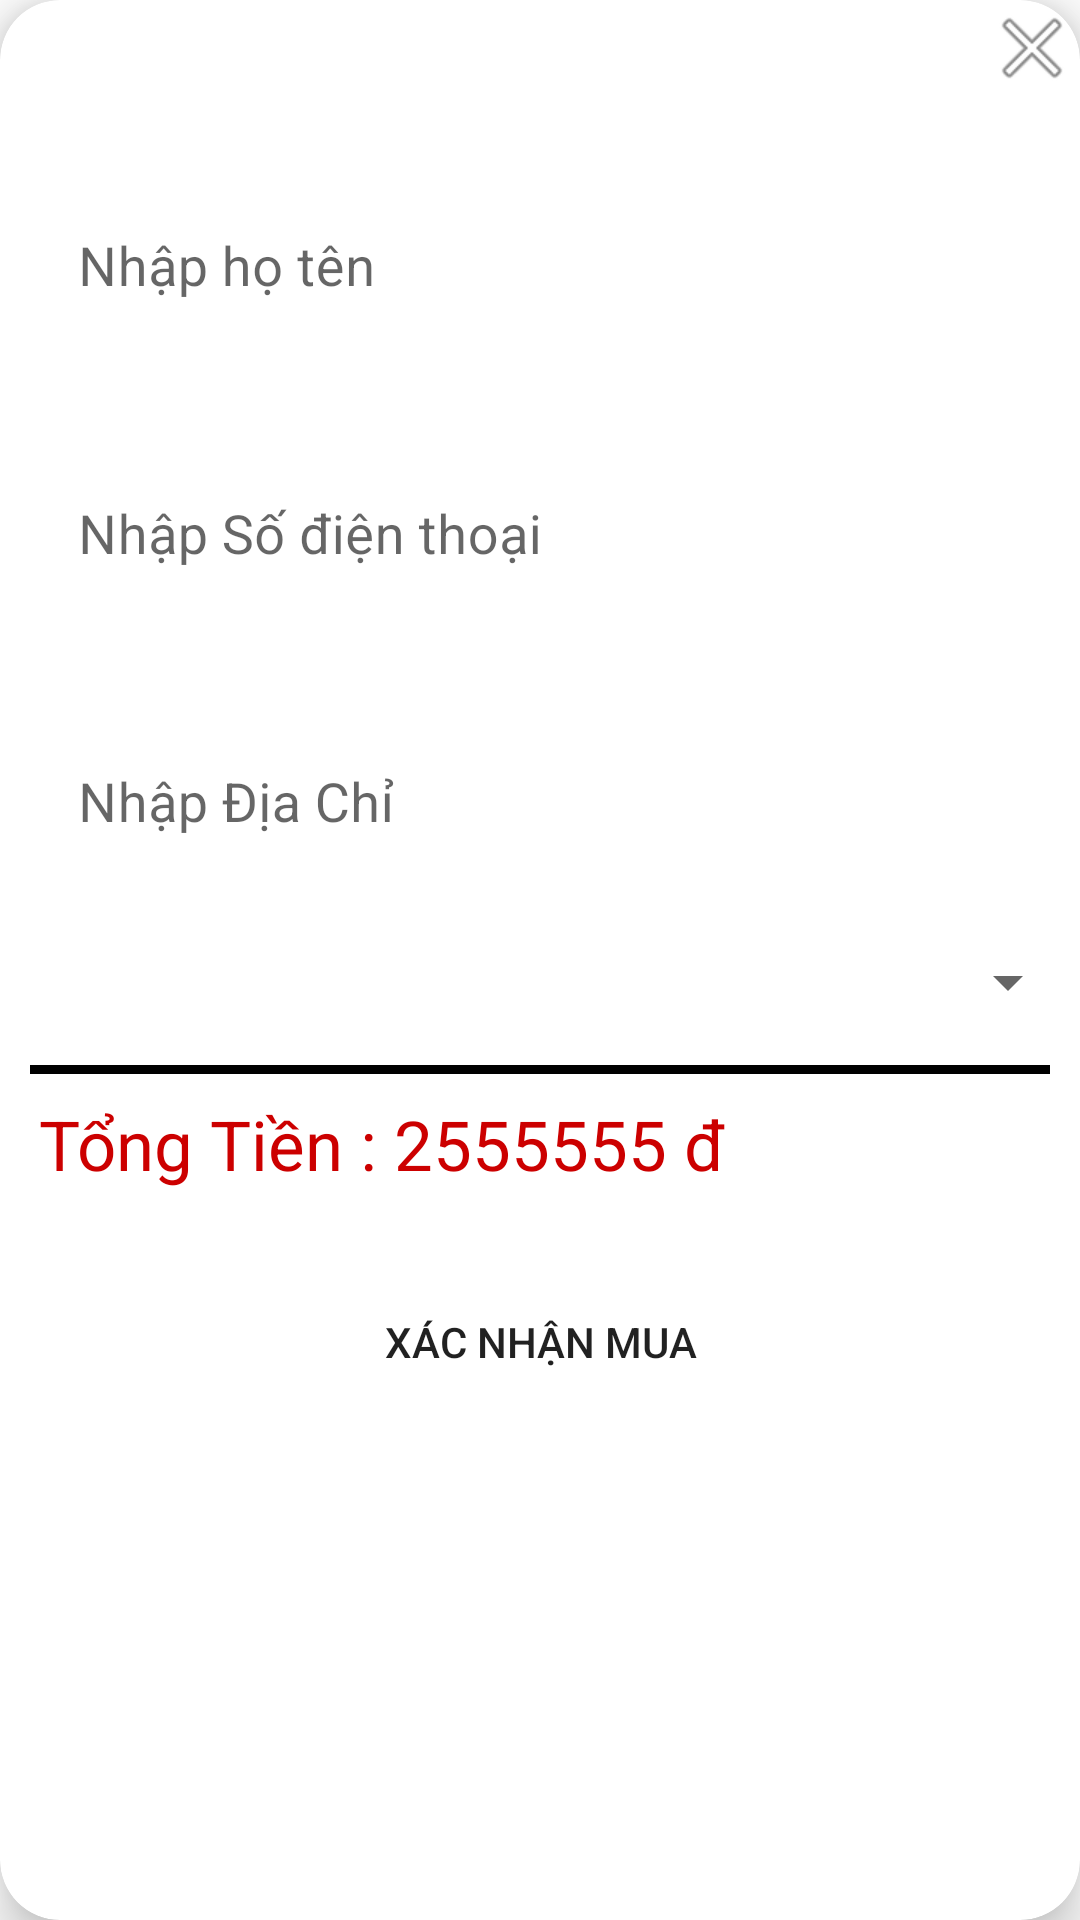

Icons on this 1080x1920 Android screen, each with its box as (x1=x1, y1=y1, x2=x2, y2=y2):
close clear cancel: (x1=1002, y1=0, x2=1080, y2=78)
